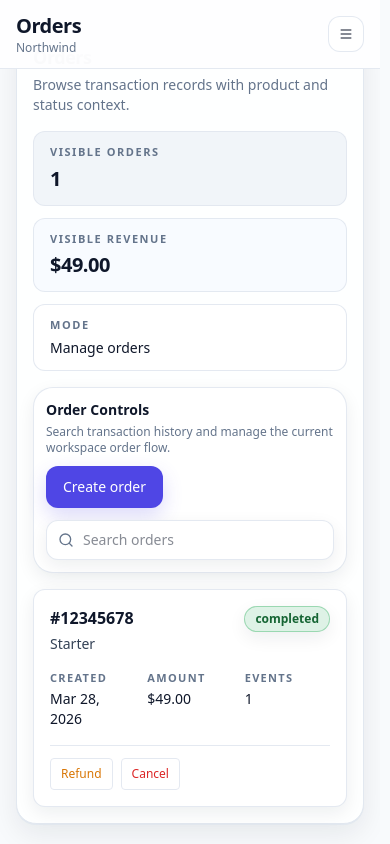
App browser-level integration flows › refunds an order through the real app flow and shows the updated status
(page scrolled)
Expected: the text "Starter" is shown, [50, 634, 95, 652]
Click the button "Refund" at (81, 774), box [50, 758, 113, 790]
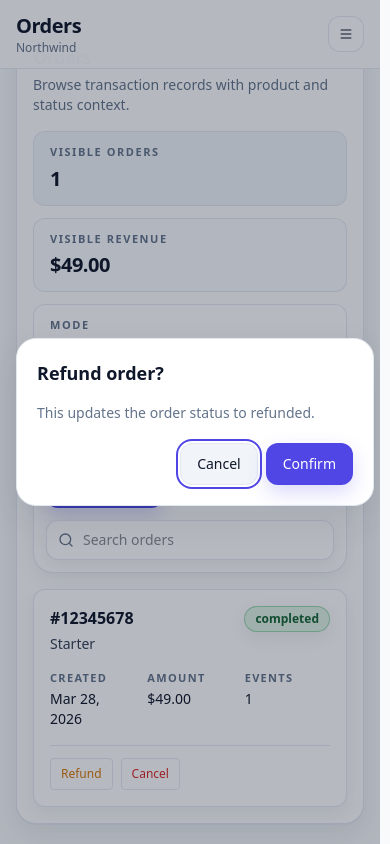
Click the button "Confirm" at (309, 464), box [266, 443, 353, 485]
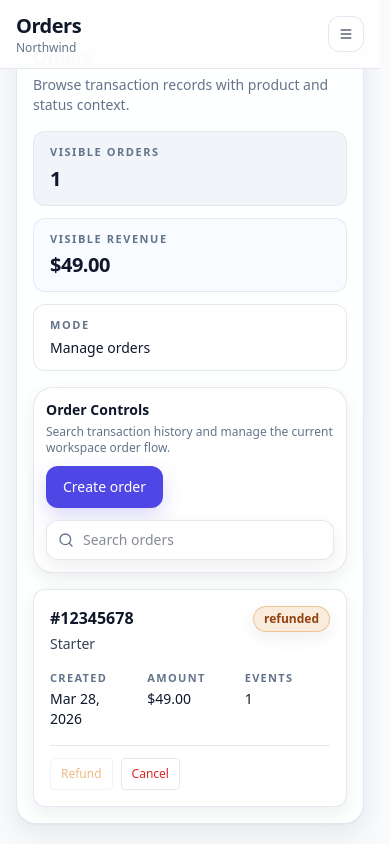
Expected: the text "refunded" is shown, [253, 606, 330, 632]
